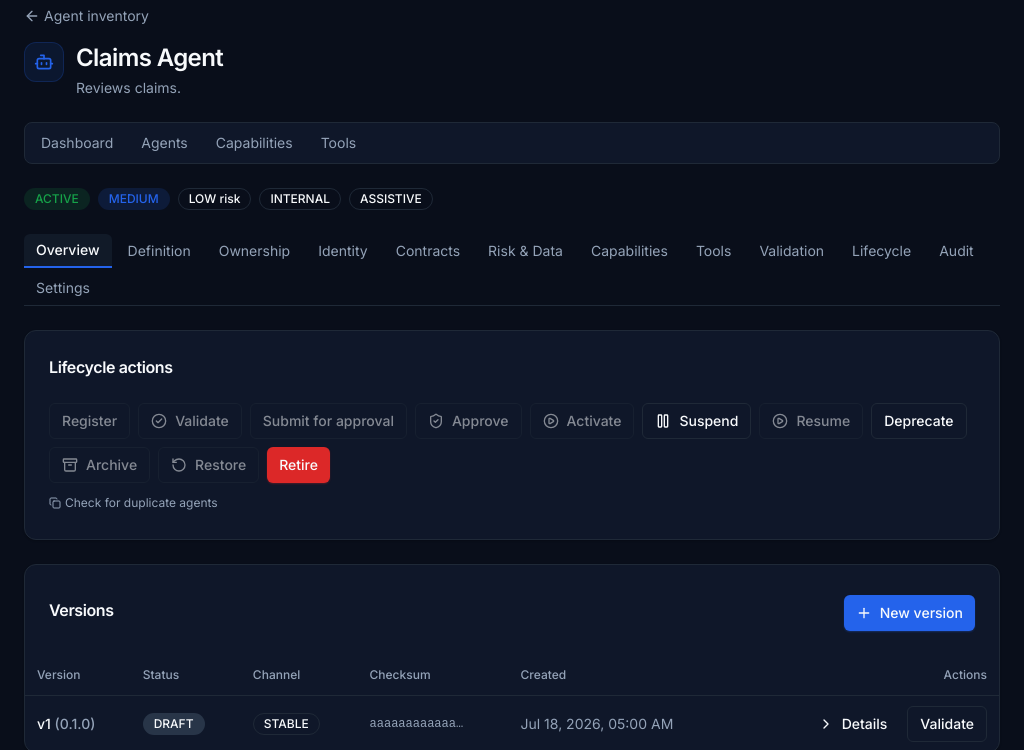
Scenario: AgentDetailPage — Versions (Phase 5.2 Part 1) › expands the details panel and shows lineage, snapshot and status history
Click the button "Details": {"x": 852, "y": 724} left=806, top=706, right=899, bottom=742
(page scrolled)
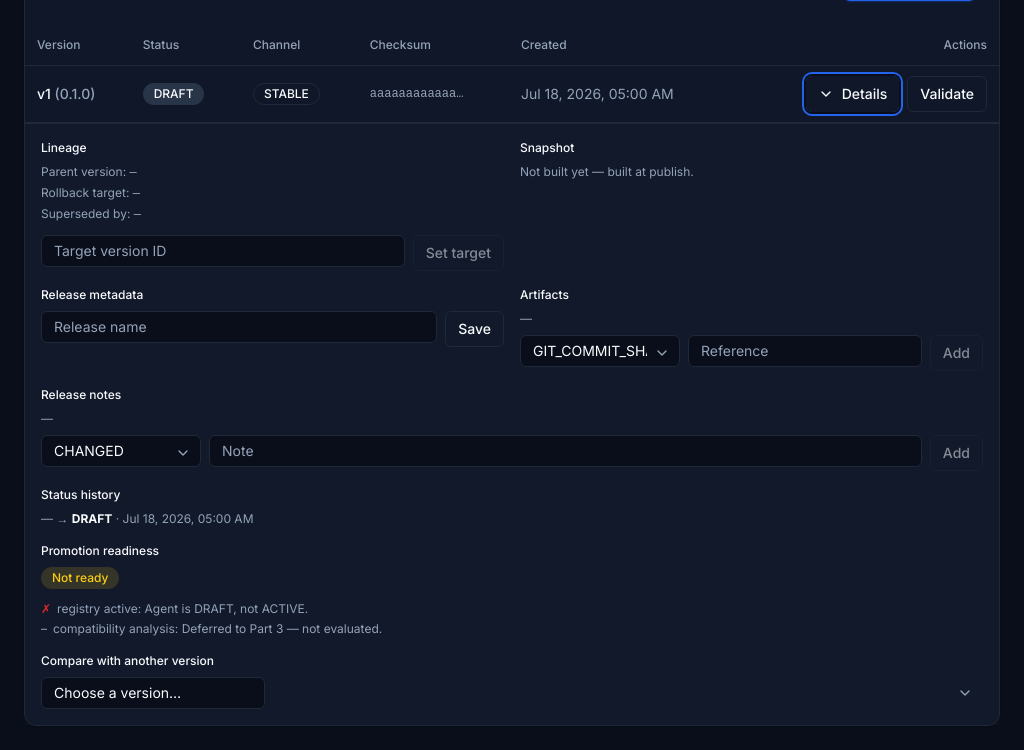
Now the heading "Lineage" is shown, box left=41, top=140, right=86, bottom=154
Now the heading "Snapshot" is shown, box left=520, top=140, right=574, bottom=154
Now the text "Not built yet — built at publish." is shown, box left=520, top=164, right=694, bottom=178
